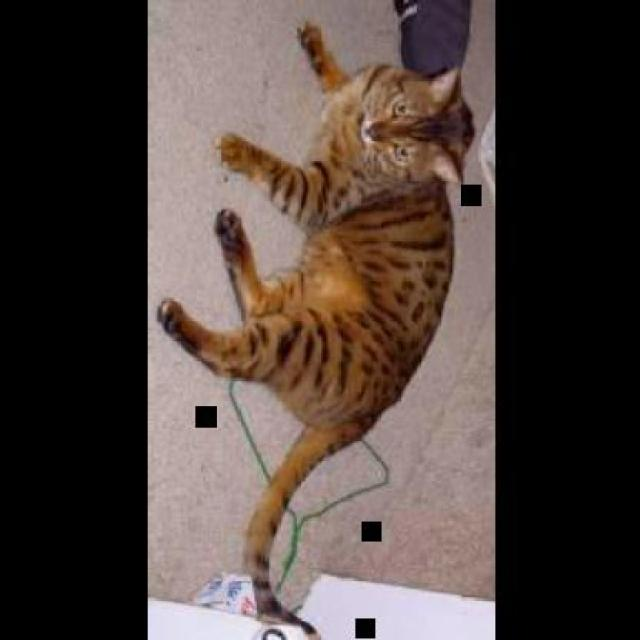unauthorized: (156, 18, 476, 637)
